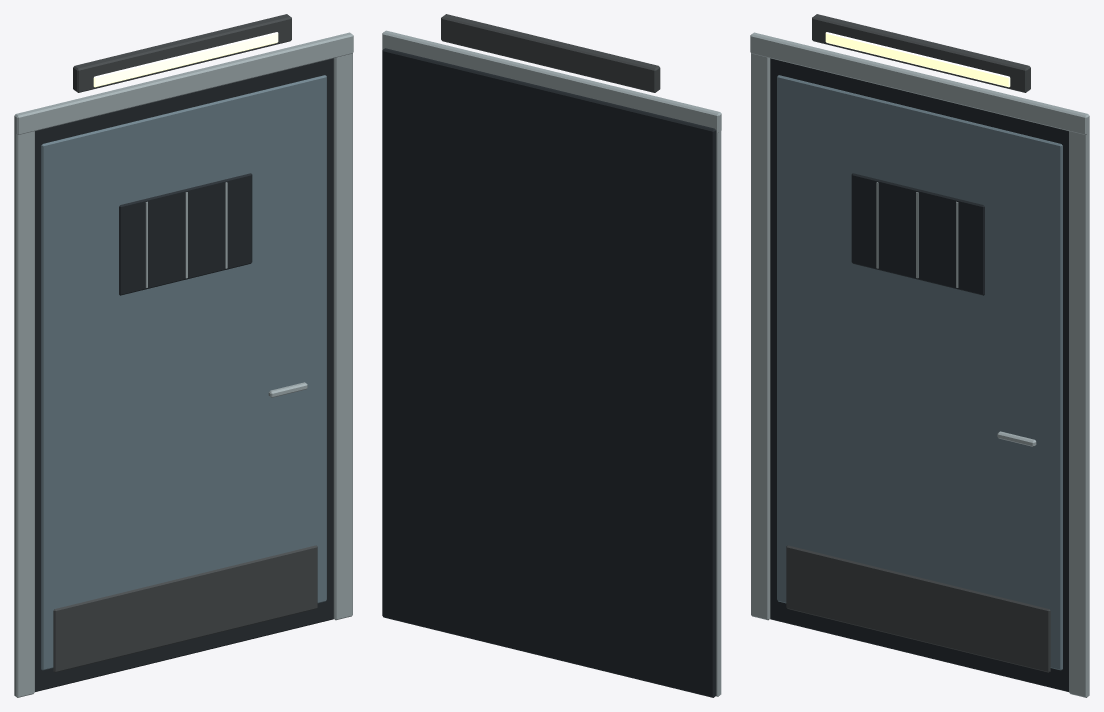
File: roof-access.glb
3 renders of one model, left to right at view 1: azimuth 30°, elevation 25°; view 2: azimuth 150°, elevation 25°; view 3: azimuth 330°, elevation 25°, orthographic.
Parts seen in each view (by area): view 1: roof-access-Slate enamel, roof-access-Brushed zinc, roof-access-Recess and gasket, roof-access-Graphite steel, roof-access-Warm luminaire; view 2: roof-access-Recess and gasket, roof-access-Brushed zinc, roof-access-Graphite steel; view 3: roof-access-Slate enamel, roof-access-Brushed zinc, roof-access-Recess and gasket, roof-access-Graphite steel, roof-access-Warm luminaire.
Boxes of the visible parts, x1=… form: roof-access-Slate enamel: x1=41, y1=75, x2=326, y2=670; roof-access-Brushed zinc: x1=14, y1=32, x2=353, y2=697; roof-access-Recess and gasket: x1=35, y1=58, x2=333, y2=691; roof-access-Graphite steel: x1=53, y1=14, x2=317, y2=672; roof-access-Warm luminaire: x1=93, y1=32, x2=278, y2=87; roof-access-Recess and gasket: x1=382, y1=48, x2=716, y2=697; roof-access-Brushed zinc: x1=382, y1=30, x2=721, y2=696; roof-access-Graphite steel: x1=441, y1=14, x2=660, y2=92; roof-access-Slate enamel: x1=777, y1=75, x2=1062, y2=670; roof-access-Brushed zinc: x1=750, y1=32, x2=1089, y2=697; roof-access-Recess and gasket: x1=770, y1=58, x2=1068, y2=691; roof-access-Graphite steel: x1=786, y1=14, x2=1050, y2=672; roof-access-Warm luminaire: x1=825, y1=32, x2=1010, y2=87.
Size of the model in its own units: 1.44 by 2.51 by 0.0695.
